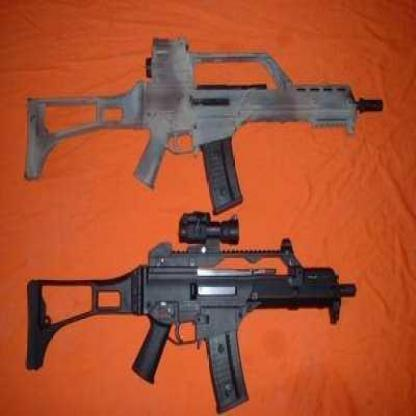rifle: (12, 28, 397, 225), (17, 203, 372, 415)
